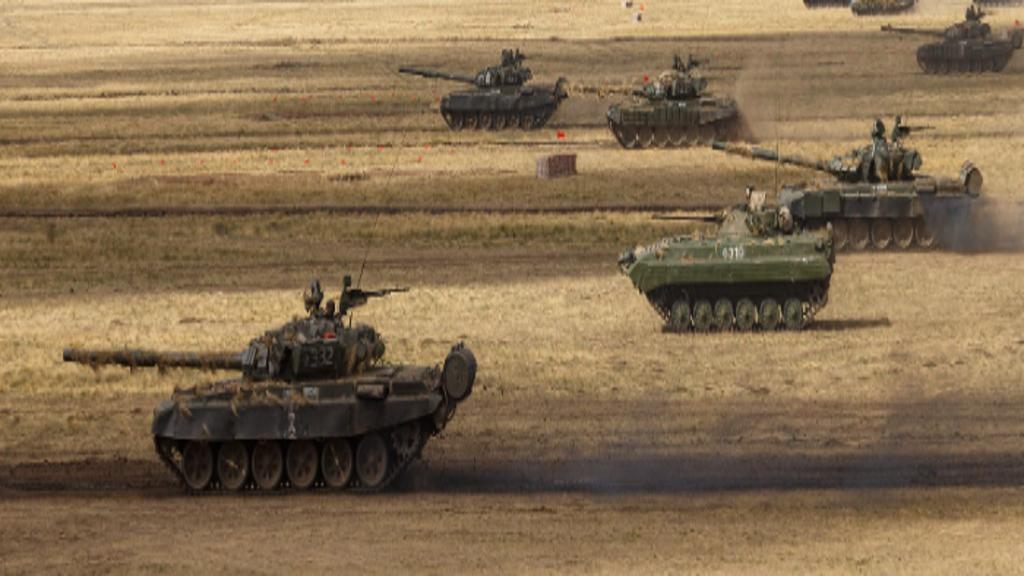APC-IFV: (614, 205, 833, 331)
TANK: (55, 286, 483, 499), (705, 131, 988, 254), (572, 57, 746, 149), (386, 53, 570, 129), (873, 18, 1014, 75)
